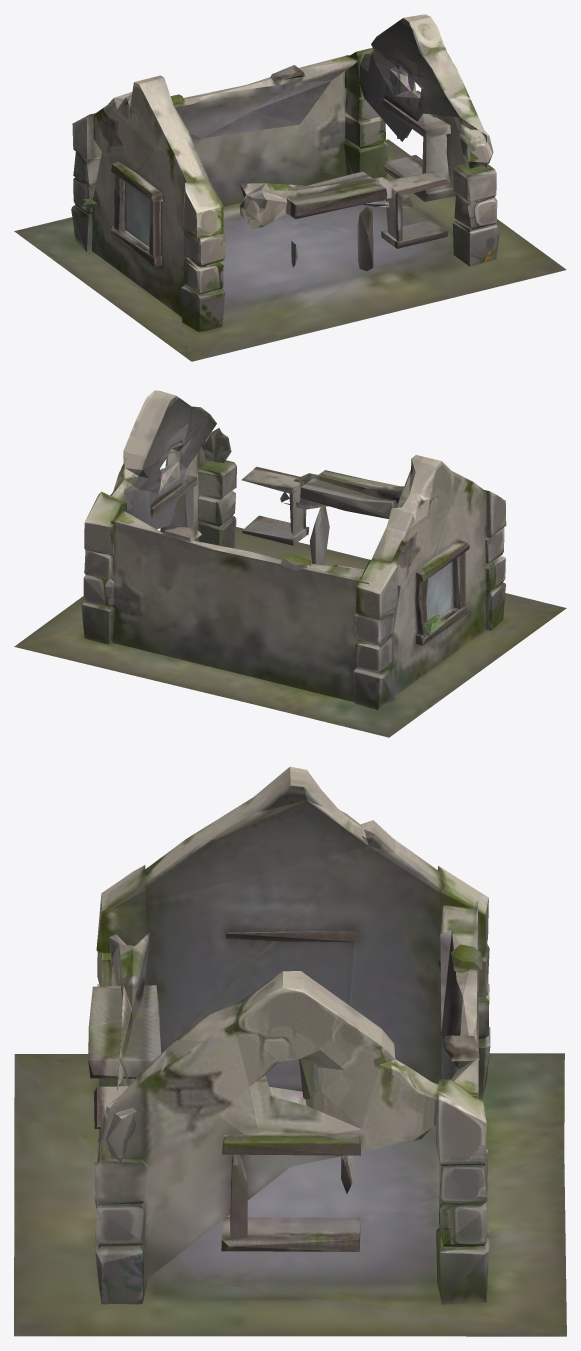
File: mu-ruine-semis.glb
3 renders of one model, top to bottom at view 1: azimuth 30°, elevation 25°; view 2: azimuth 150°, elevation 25°; view 3: azimuth 270°, elevation 25°, orthographic. The views are drawn at different scales.
Visible parts, largest first — view 1: mu-ruine-lp; view 2: mu-ruine-lp; view 3: mu-ruine-lp.
Boxes of the visible parts, x1,y1,x2,y2 form: mu-ruine-lp: [14, 14, 566, 361]; mu-ruine-lp: [14, 390, 566, 737]; mu-ruine-lp: [14, 766, 566, 1336].
Size of the model in its own units: 2 by 1.06 by 1.65.
Materials: 1 (1 with a texture image).
